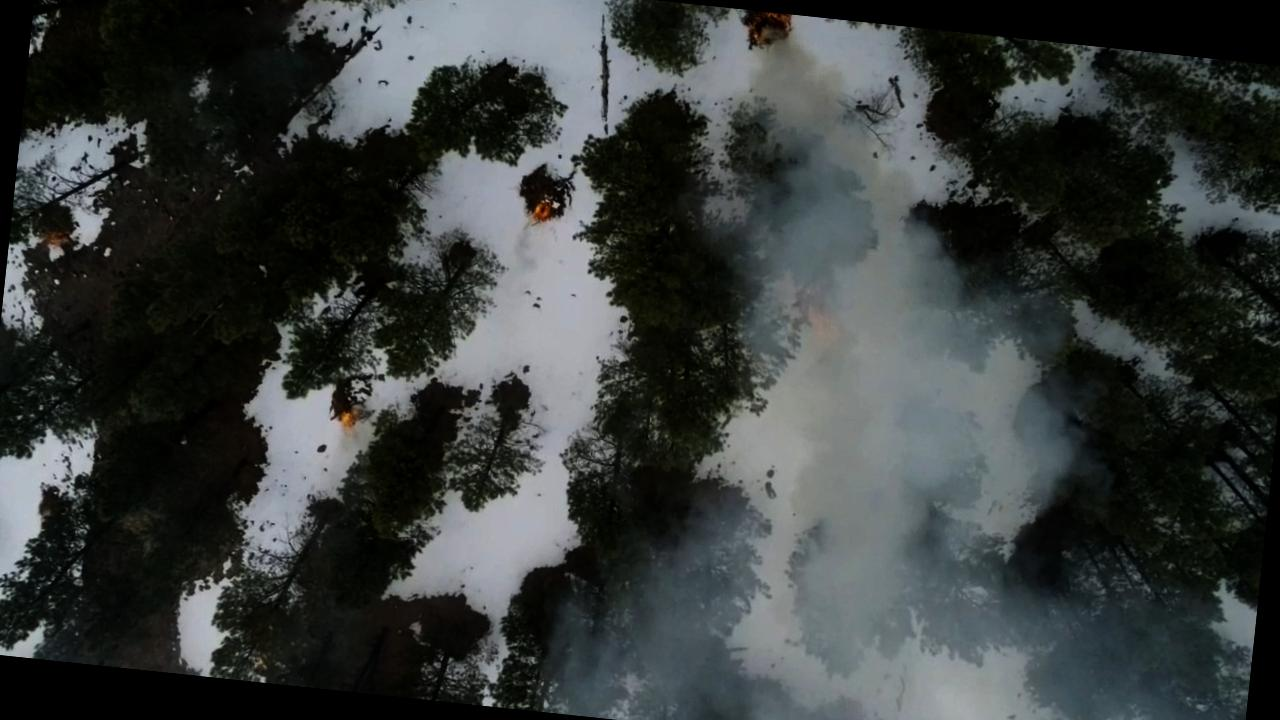fire: (741, 9, 802, 58), (523, 198, 557, 236), (328, 414, 358, 441)
smoke: (550, 446, 1238, 720), (718, 152, 1100, 494)
